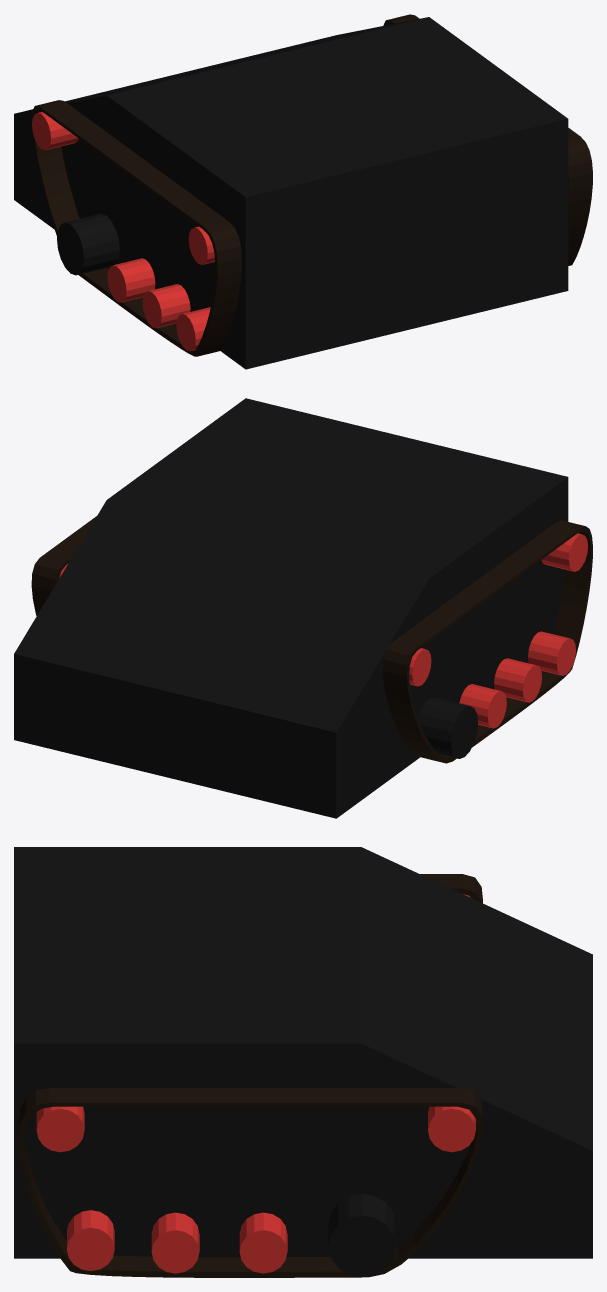
The model's file is 3natar11.dae.
3 views of the same model, one above another, from view 1: azimuth 30°, elevation 25°; view 2: azimuth 150°, elevation 25°; view 3: azimuth 270°, elevation 25° (orthographic). The views are drawn at different scales.
Parts seen in each view (by area): view 1: Cube_001; view 2: Cube_001; view 3: Cube_001.
Boxes of the visible parts, x1,y1,x2,y2 form: Cube_001: (14, 14, 592, 369); Cube_001: (14, 398, 592, 818); Cube_001: (14, 847, 592, 1277).
Bounding box in the file's own units: 0.5989 × 0.61 × 0.2538.
